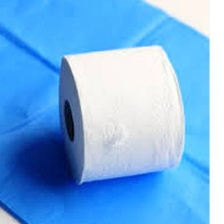tissue: (52, 38, 189, 188)
